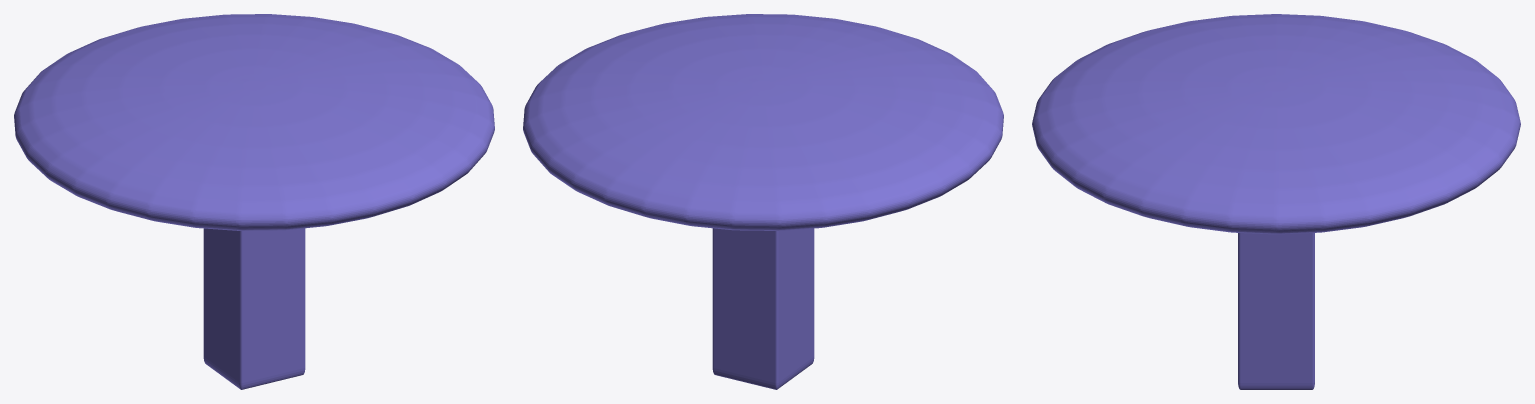
The model's file is plant3.fbx.
3 views of the same model, side by side, from view 1: azimuth 30°, elevation 25°; view 2: azimuth 150°, elevation 25°; view 3: azimuth 270°, elevation 25° (orthographic).
Visible parts, largest first — view 1: Cube.001; view 2: Cube.001; view 3: Cube.001.
Boxes of the visible parts, x1,y1,x2,y2 form: Cube.001: [14, 14, 494, 389]; Cube.001: [523, 14, 1003, 389]; Cube.001: [1032, 14, 1520, 389].
Bounding box in the file's own units: 3.81 × 2.48 × 3.81.
